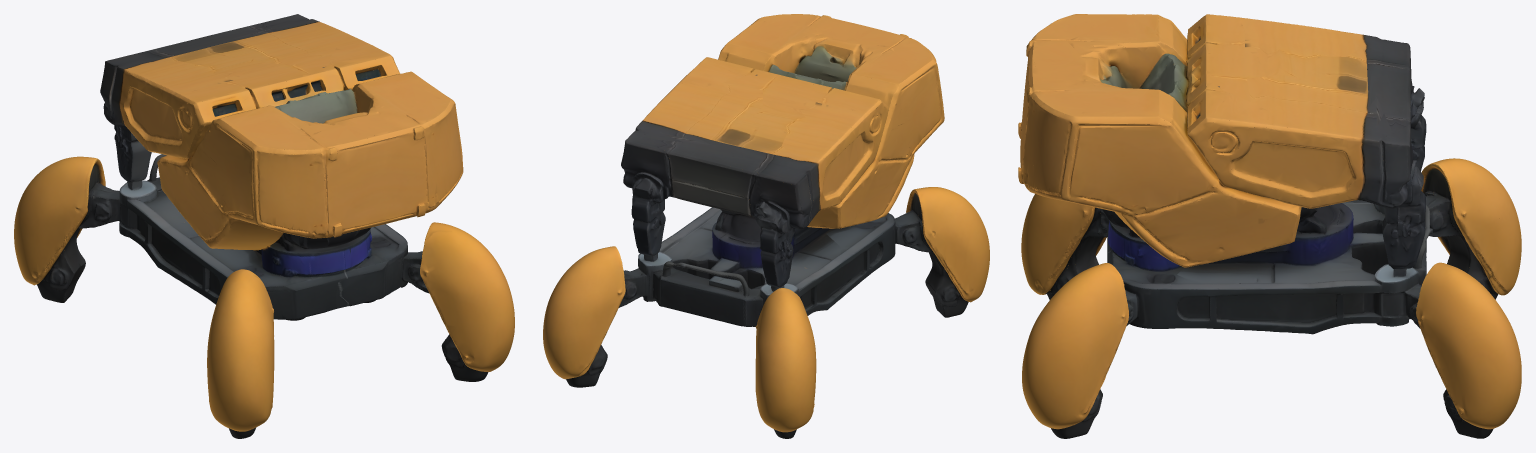
The model's file is base_basic_pbr_optimized.glb.
The picture shows the model from 3 angles, left to right: view 1: azimuth 30°, elevation 25°; view 2: azimuth 150°, elevation 25°; view 3: azimuth 270°, elevation 25°; orthographic projection. The views are drawn at different scales.
Parts seen in each view (by area): view 1: phido_30; view 2: phido_30; view 3: phido_30.
Part boxes in pixels (x1,y1,x2,y2): phido_30: (14,14,514,438); phido_30: (543,14,989,438); phido_30: (1018,14,1521,438).
Bounding box in the file's own units: 1.28 × 1.16 × 1.72.
1 material, 1 textured.
